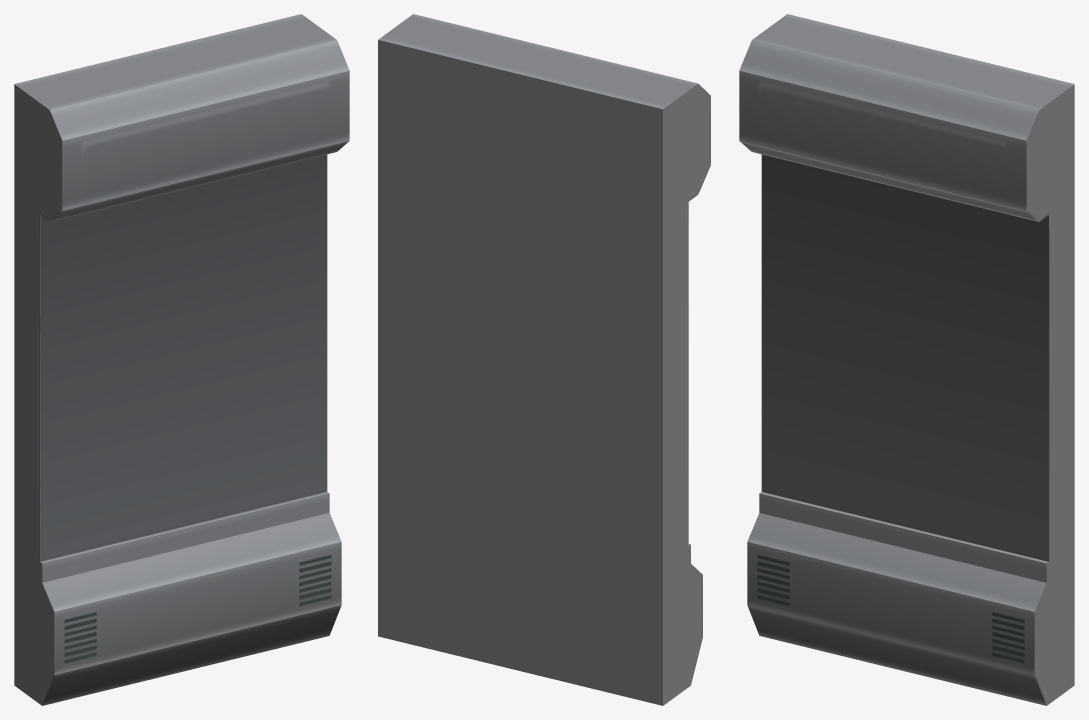
The model's file is SM_Laboratory_Wall_01.fbx.
3 views of the same model, side by side, from view 1: azimuth 30°, elevation 25°; view 2: azimuth 150°, elevation 25°; view 3: azimuth 330°, elevation 25° (orthographic).
Visible parts, largest first — view 1: SM; view 2: SM; view 3: SM.
Boxes of the visible parts, bbox=[...] form: SM: bbox=[14, 14, 349, 705]; SM: bbox=[378, 14, 710, 705]; SM: bbox=[739, 14, 1074, 705].
Bounding box in the file's own units: 140 × 280 × 40.69.
1 material, 1 textured.
